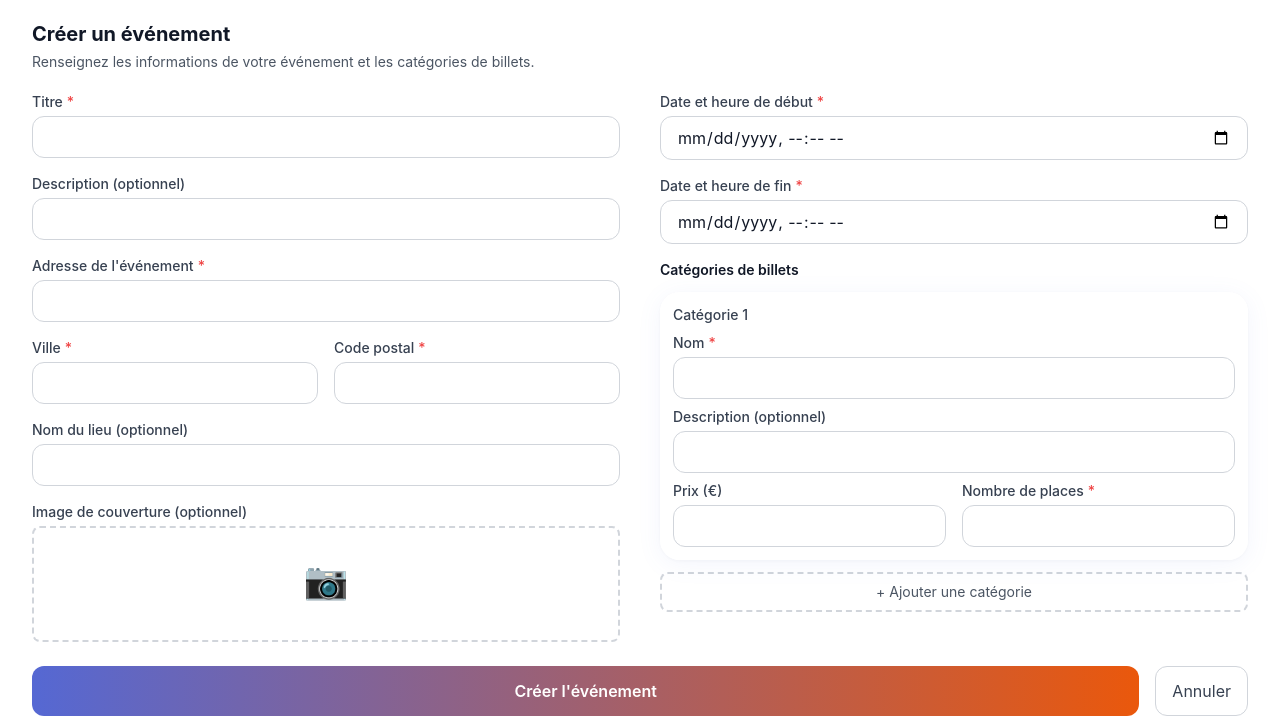
Scenario: CreateEventPage - client-side validation › requires at least one valid ticket category for a professional event
This screenshot has width=1280, height=720.
Type "Concert de jazz" into the field labelled "Titre*" at (326, 137), box [32, 116, 620, 158]
Type "10 Rue de Rivoli" into the field labelled "Adresse de l'événement*" at (326, 301), box [32, 280, 620, 322]
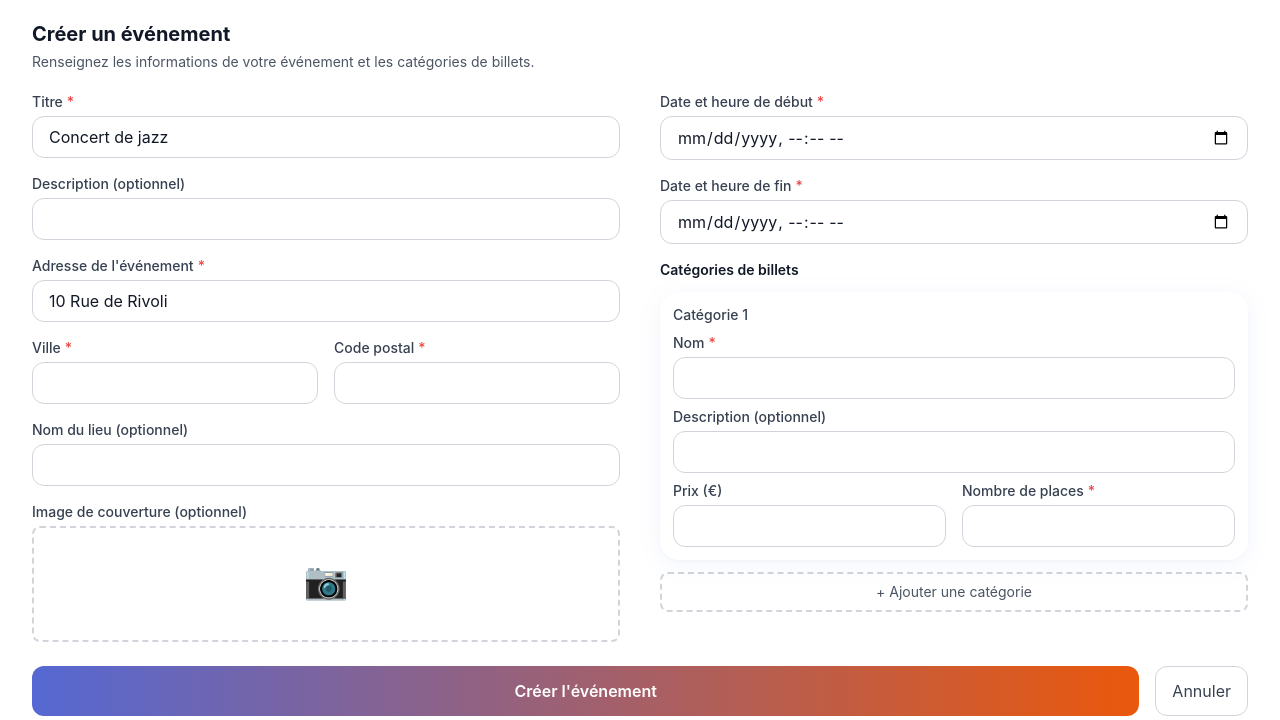
Type "Paris" into the field labelled "Ville*" at (175, 383), box [32, 362, 318, 404]
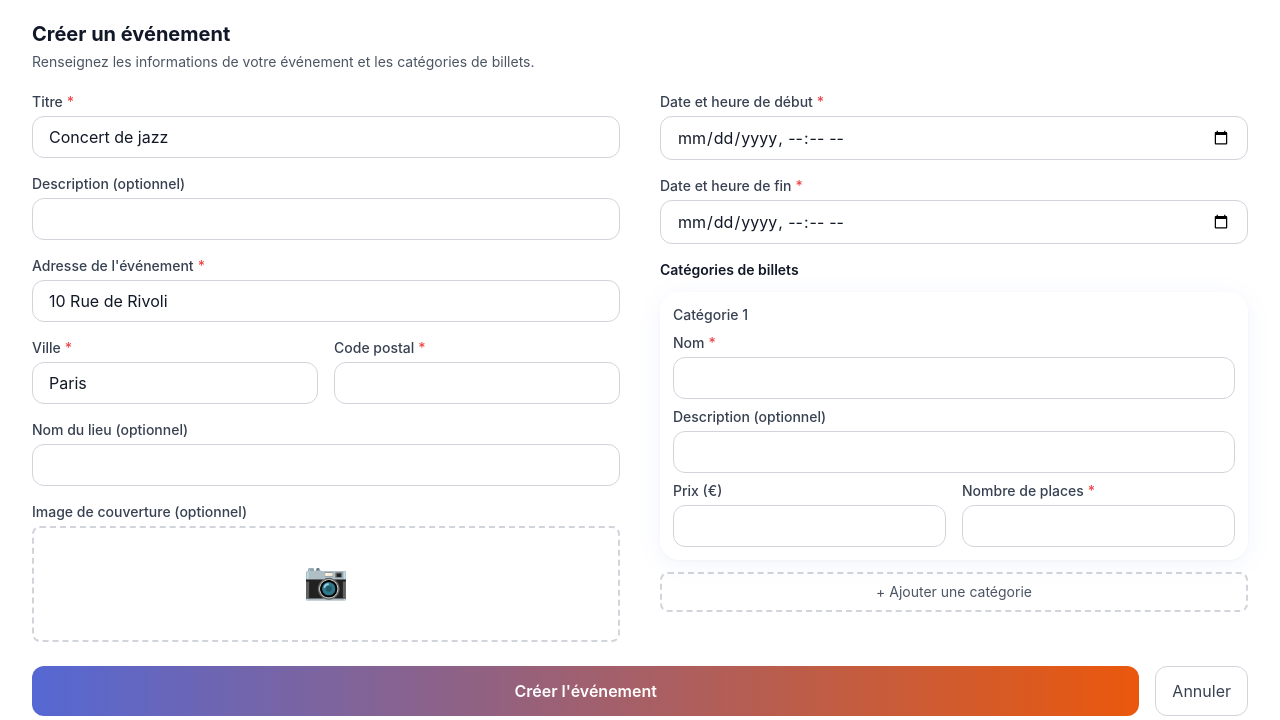
Type "75001" into the field labelled "Code postal*" at (477, 383), box [334, 362, 620, 404]
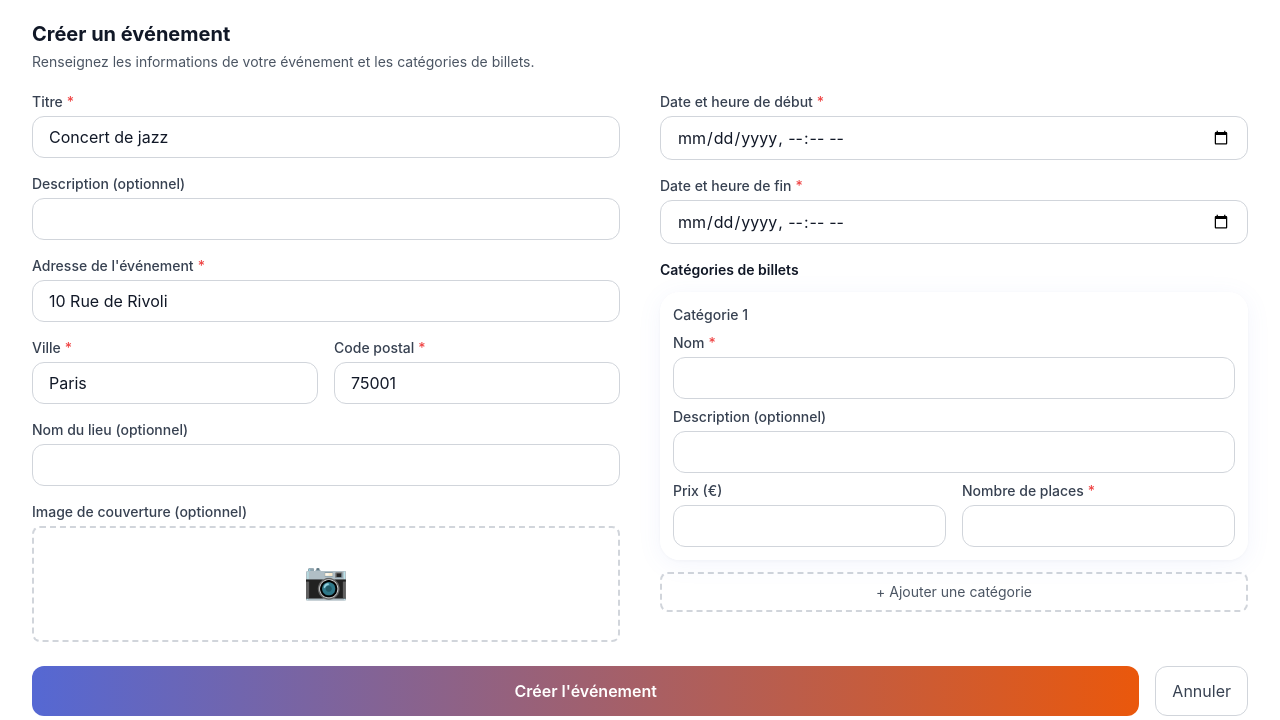
Type "2026-07-01T20:00" into the field labelled "Date et heure de début*" at (954, 138), box [660, 116, 1248, 160]
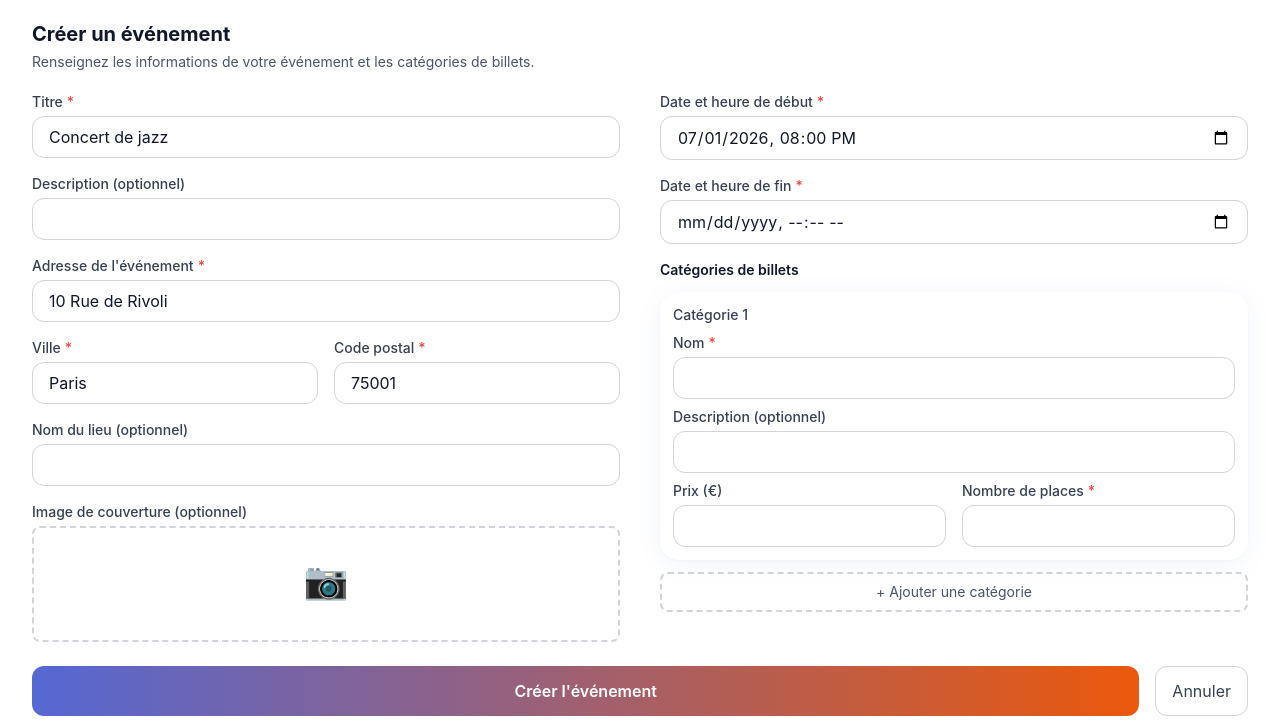
Type "2026-07-01T22:00" into the field labelled "Date et heure de fin*" at (954, 222), box [660, 200, 1248, 244]
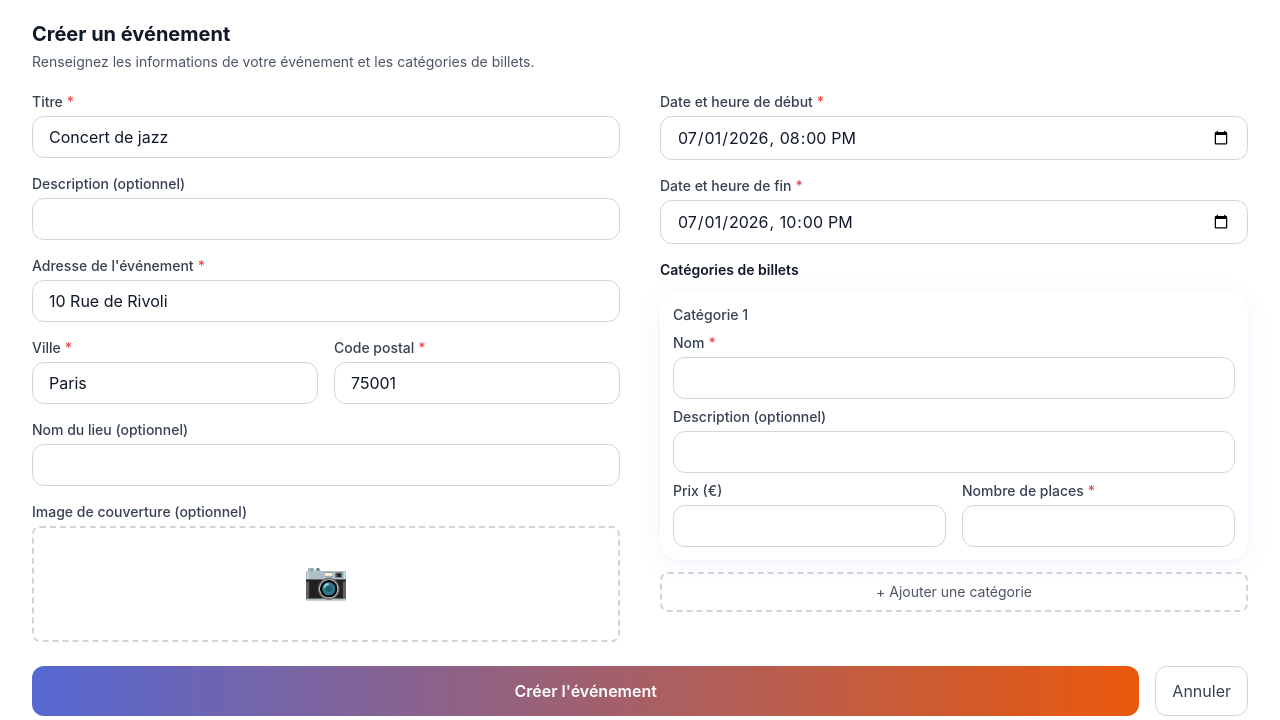
Click the button "Créer l'événement" at (586, 691), box [32, 666, 1139, 716]
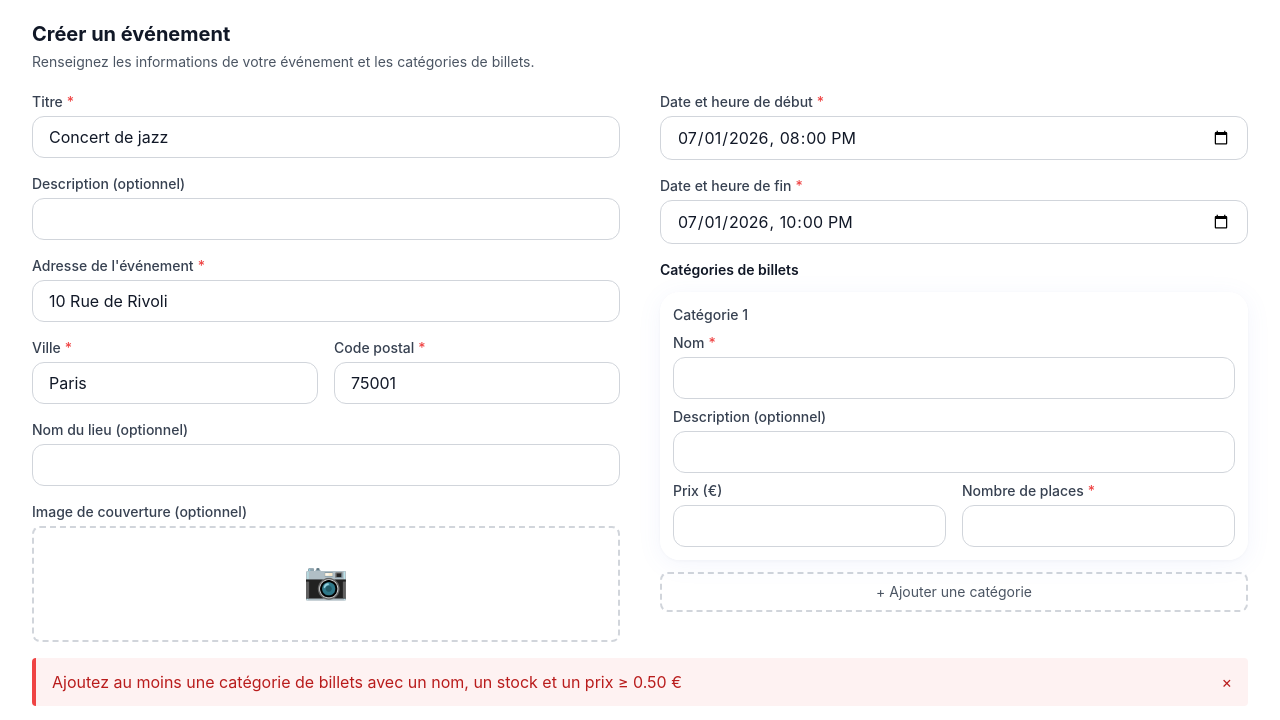
Check: the text "Ajoutez au moins une catégorie de billets" is shown, box [52, 672, 682, 692]
